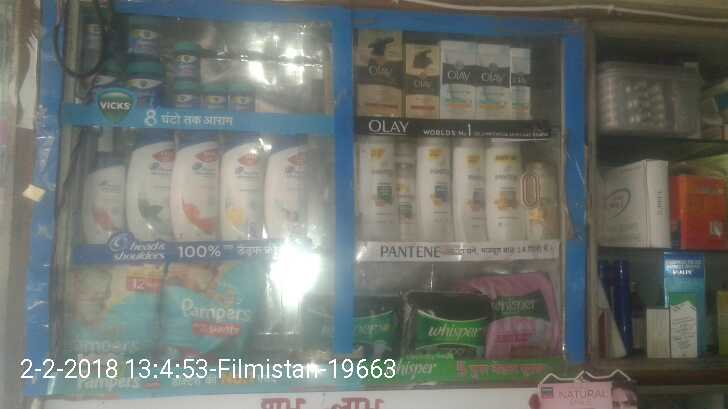vicks: (92, 8, 256, 114)
